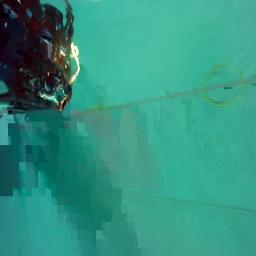Full: (1, 2, 74, 112)
